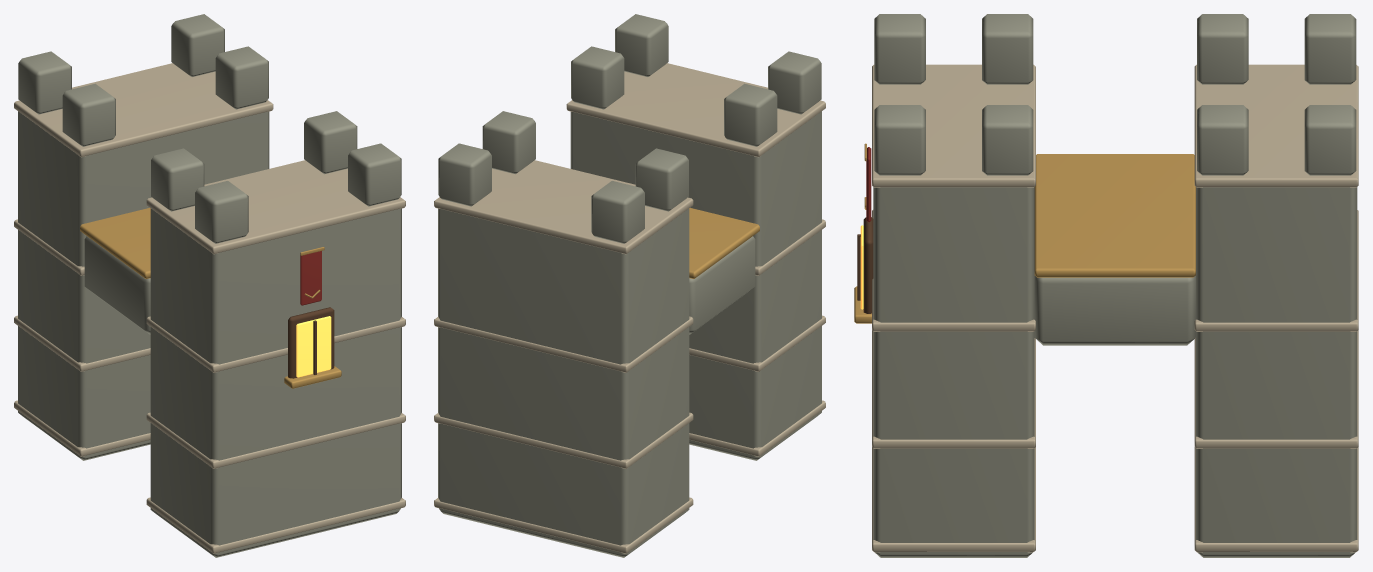
The model's file is architecture-gatehouse.glb.
3 renders of one model, left to right at view 1: azimuth 30°, elevation 25°; view 2: azimuth 150°, elevation 25°; view 3: azimuth 270°, elevation 25°, orthographic. The views are drawn at different scales.
Parts seen in each view (by area): view 1: architecture-gatehouse-exterior; view 2: architecture-gatehouse-exterior; view 3: architecture-gatehouse-exterior.
Boxes of the visible parts, box(x1,y1,x2,y2) form: architecture-gatehouse-exterior: box(14, 14, 405, 557); architecture-gatehouse-exterior: box(434, 14, 825, 557); architecture-gatehouse-exterior: box(854, 14, 1358, 557).
Bounding box in the file's own units: 2.56 × 4.47 × 4.69.
